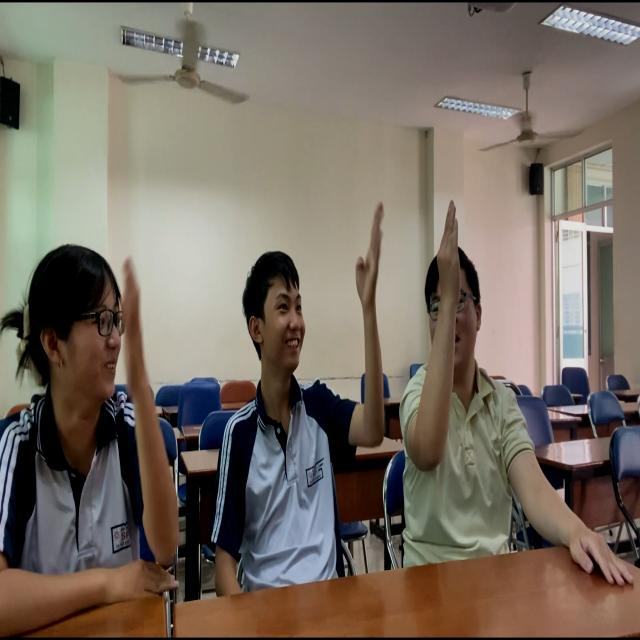raise_hand: (3, 207, 184, 624), (230, 196, 386, 546), (396, 173, 511, 523)
